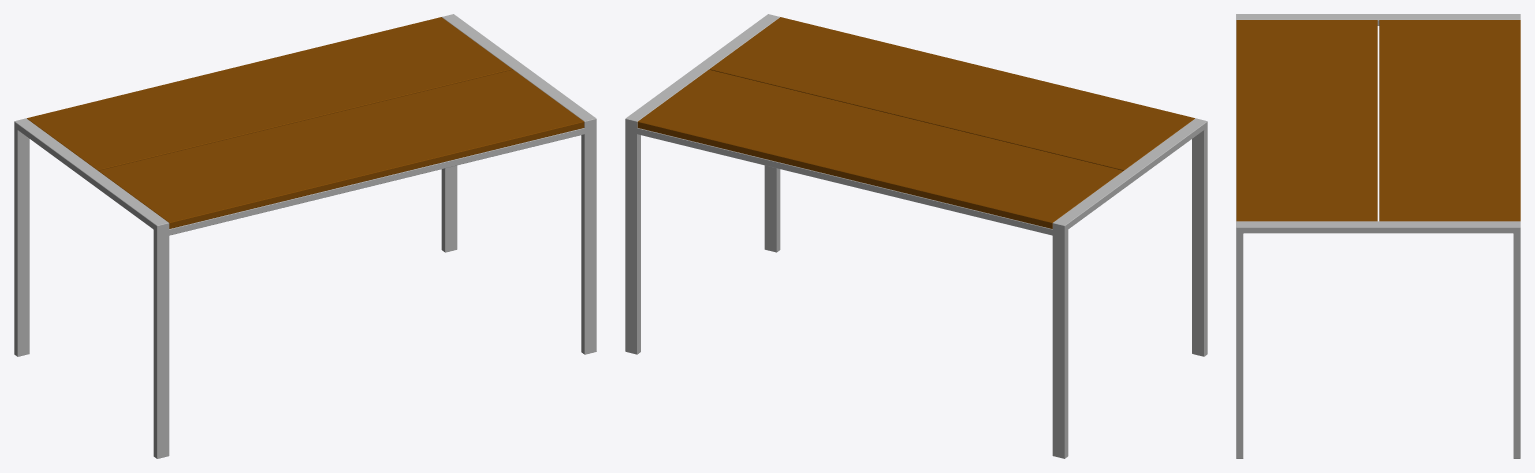
The model's file is table1.fbx.
3 renders of one model, left to right at view 1: azimuth 30°, elevation 25°; view 2: azimuth 150°, elevation 25°; view 3: azimuth 270°, elevation 25°, orthographic.
Parts seen in each view (by area): view 1: tossa_exo; view 2: tossa_exo; view 3: tossa_exo.
Part boxes in pixels (left/top/right/bottom): tossa_exo: left=14, top=14, right=596, bottom=458; tossa_exo: left=625, top=14, right=1207, bottom=458; tossa_exo: left=1236, top=14, right=1520, bottom=458.
Size of the model in its own units: 11.9 by 6.04 by 6.71.
